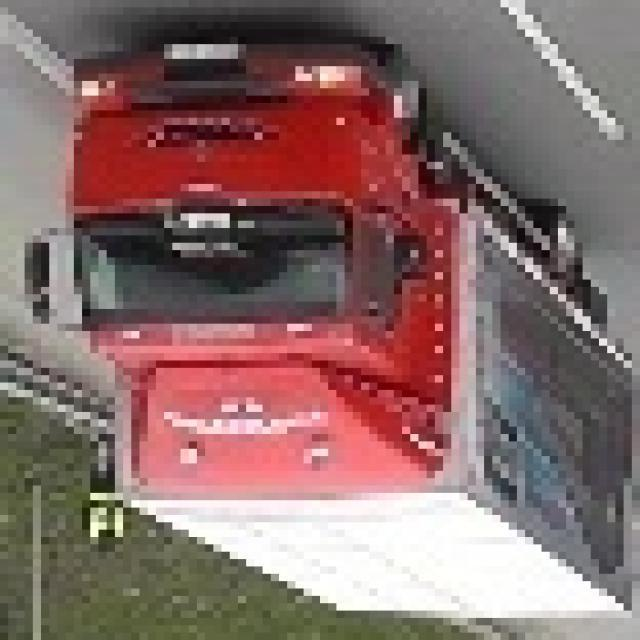truck: (2, 17, 476, 498)
